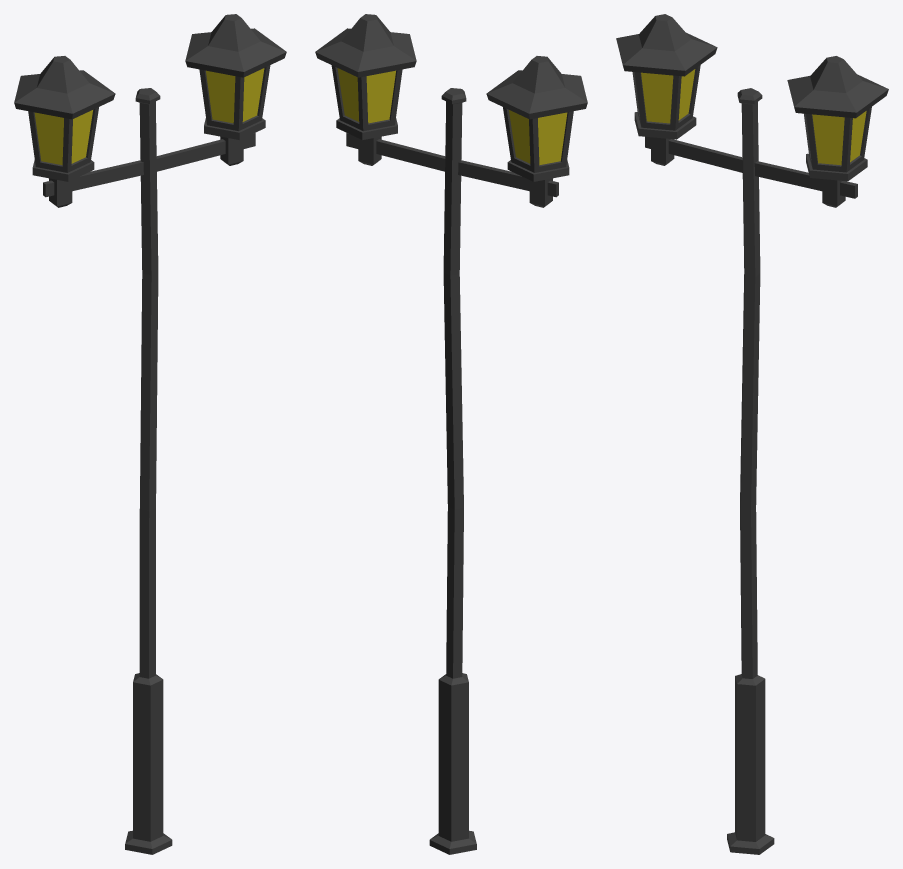
The model's file is SM_lamp_street_03.fbx.
3 renders of one model, left to right at view 1: azimuth 30°, elevation 25°; view 2: azimuth 150°, elevation 25°; view 3: azimuth 330°, elevation 25°, orthographic.
Parts seen in each view (by area): view 1: Cylinder049; view 2: Cylinder049; view 3: Cylinder049.
Boxes of the visible parts, x1,y1,x2,y2 form: Cylinder049: [14, 14, 286, 854]; Cylinder049: [315, 14, 587, 854]; Cylinder049: [616, 14, 888, 854].
Size of the model in its own units: 62.1 by 186 by 21.75.
